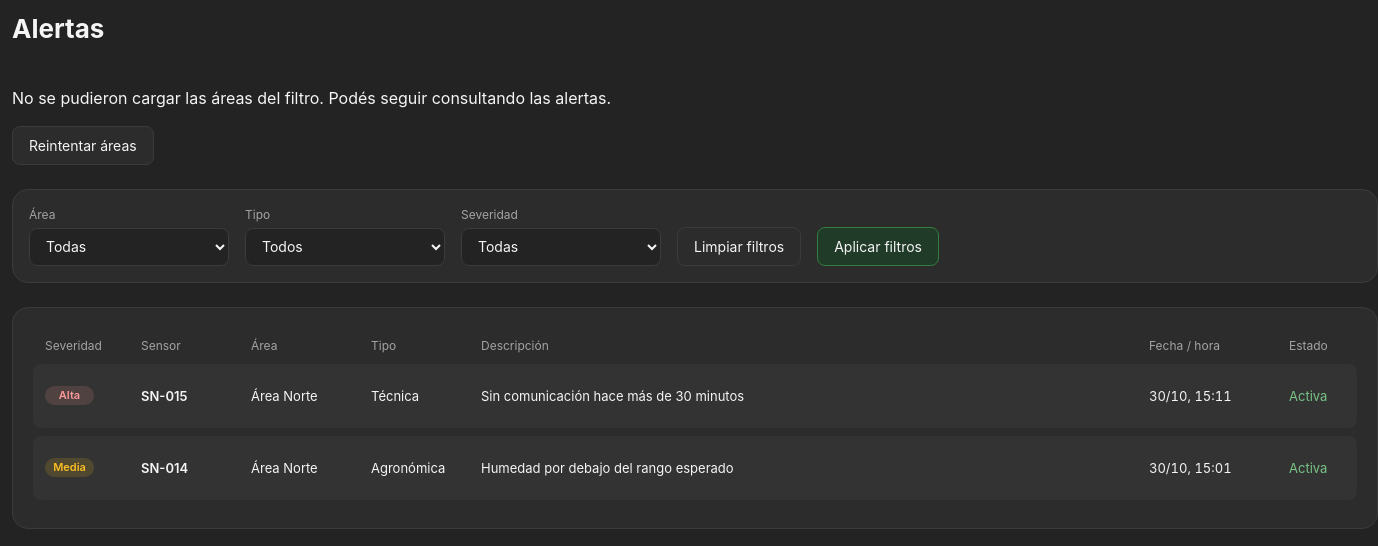
Test: AlertasPage › ofrece recuperar el selector de áreas sin bloquear las alertas
Expected: the text "No se pudieron cargar las áreas del filtro" is shown, [12, 88, 611, 108]
Click the button "Reintentar áreas".
click(83, 145)  # box [12, 126, 154, 165]
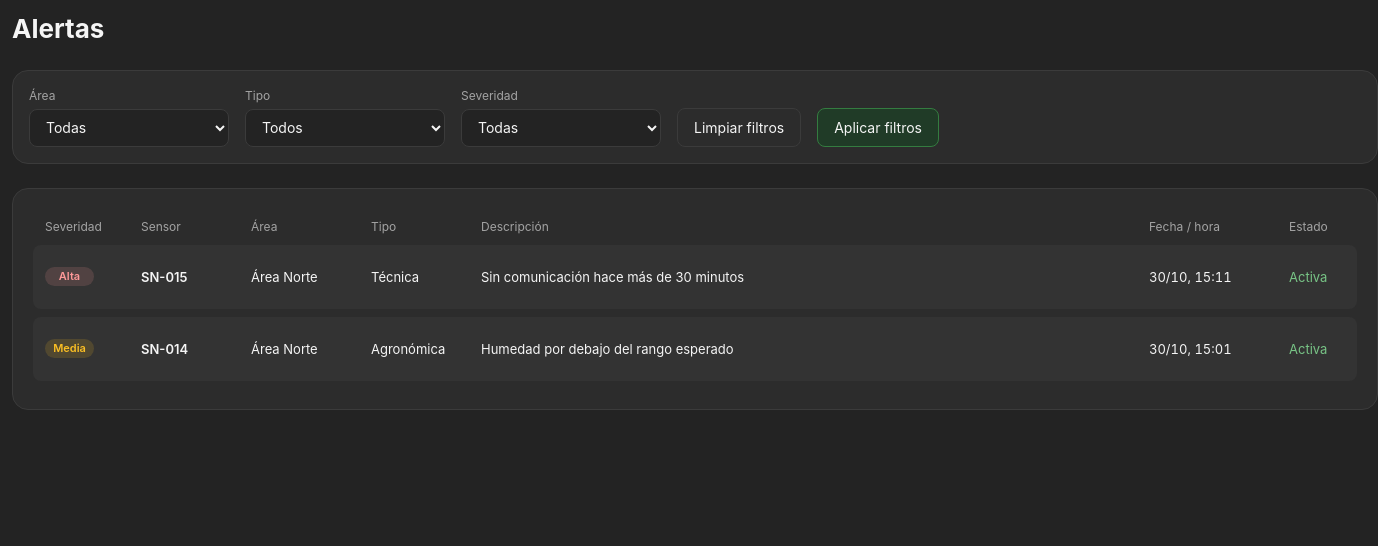
Now the text "No se pudieron cargar las áreas del filtro" is gone
